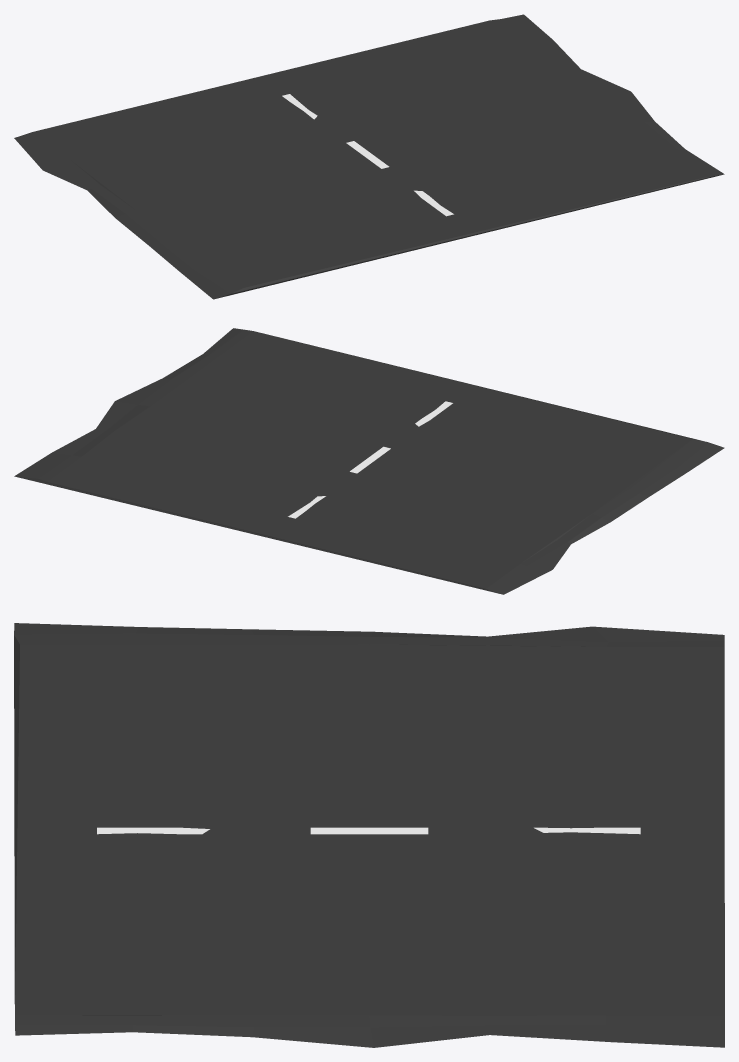
The model's file is Estrada6.fbx.
3 renders of one model, top to bottom at view 1: azimuth 30°, elevation 25°; view 2: azimuth 150°, elevation 25°; view 3: azimuth 270°, elevation 25°, orthographic. The views are drawn at different scales.
Visible parts, largest first — view 1: Cube.002; view 2: Cube.002; view 3: Cube.002.
Part boxes in pixels (x1=…): Cube.002: x1=14, y1=14, x2=724, y2=299; Cube.002: x1=14, y1=328, x2=724, y2=594; Cube.002: x1=14, y1=623, x2=724, y2=1047.
Bounding box in the file's own units: 5947 × 32.74 × 4208.
